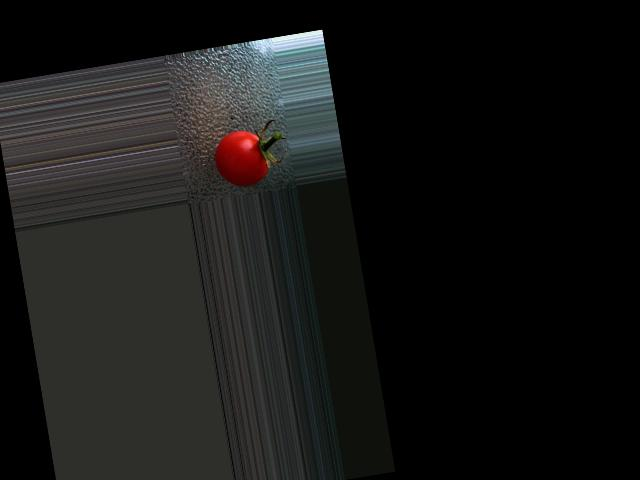tomato: (210, 126, 270, 190)
